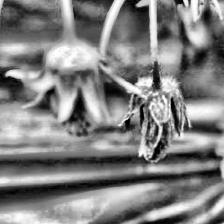Gray Mold: (120, 68, 191, 163)
